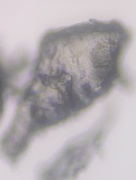microplastic: (1, 17, 131, 157), (37, 106, 118, 180), (1, 36, 29, 116)
